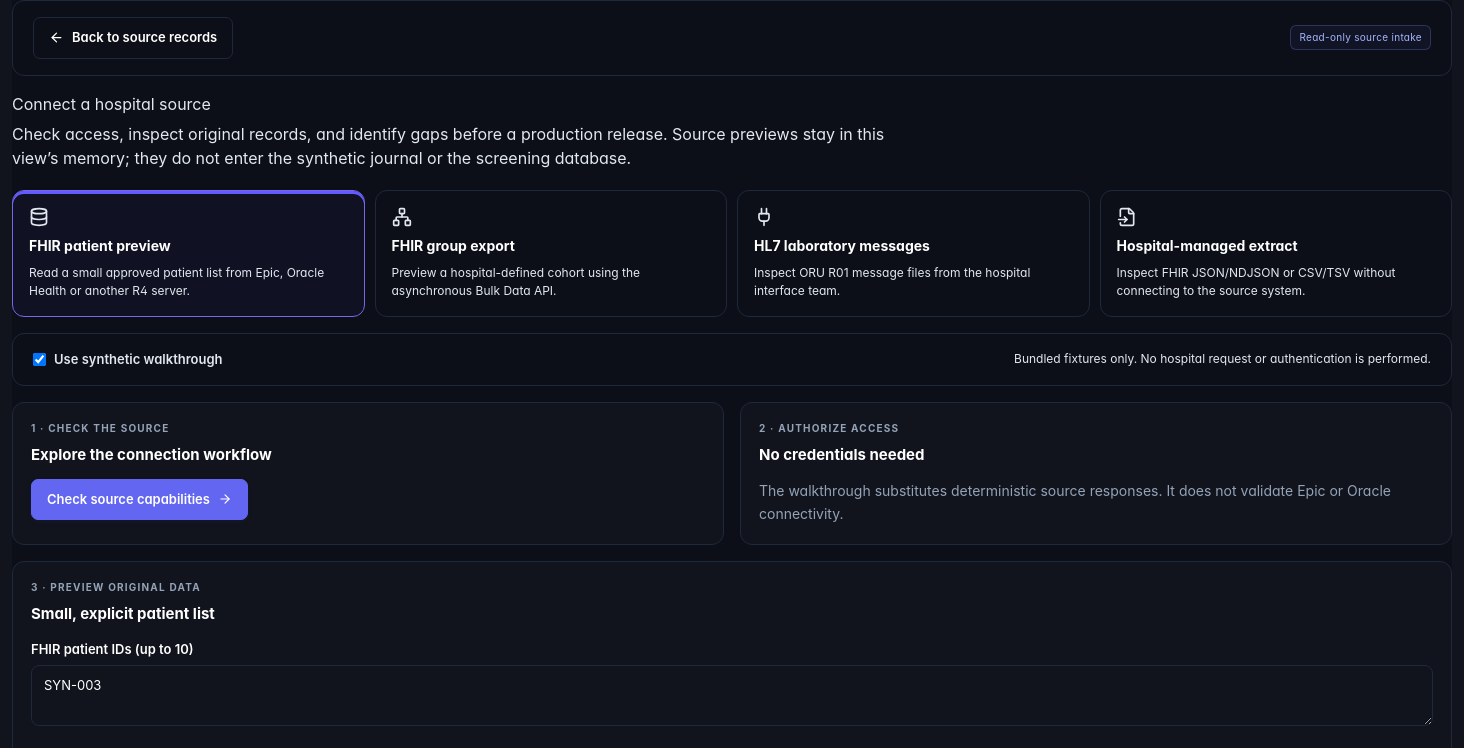
ignores a stale storage failure after returning to the synthetic walkthrough
The image size is (1464, 748).
Click the checkbox labelled "Use synthetic walkthrough": (40, 359) [33,353,46,366]
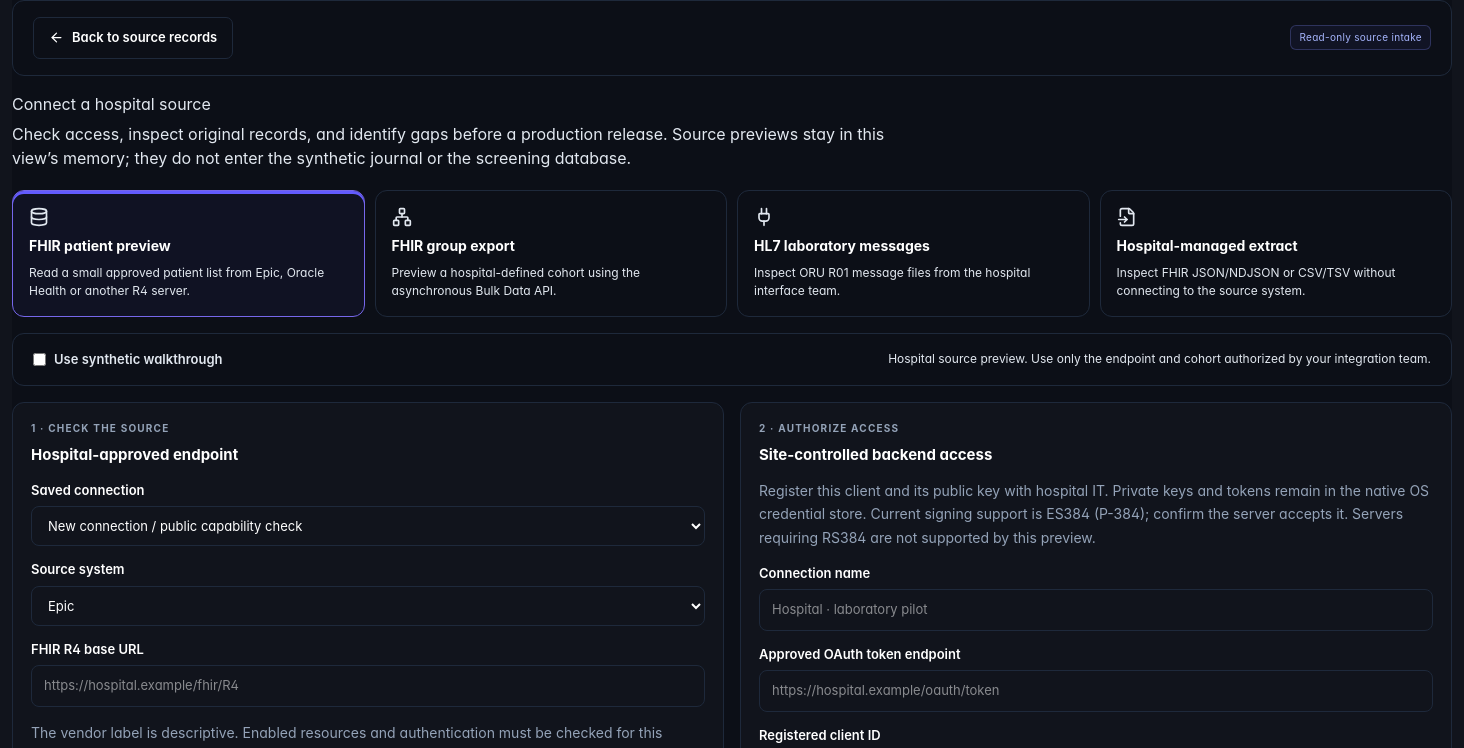
Click the checkbox labelled "Use synthetic walkthrough": (40, 359) [33,353,46,366]
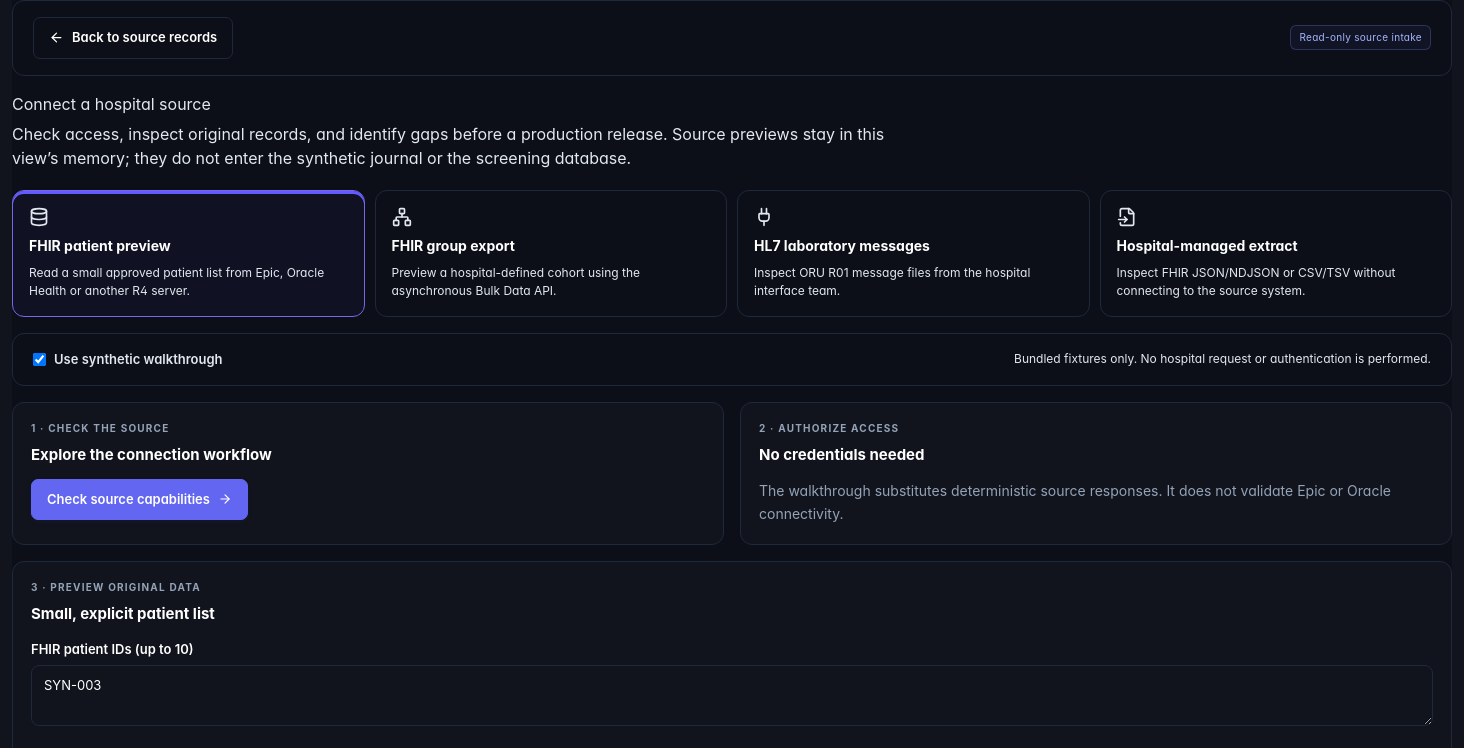
Check: the text "Bundled fixtures only. No hospital request or authentication is performed." is shown, box [1014,350,1431,368]
